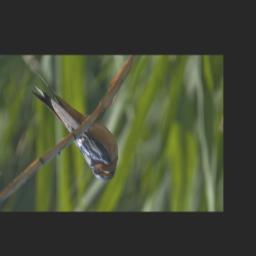Swallow: (29, 65, 119, 182)
